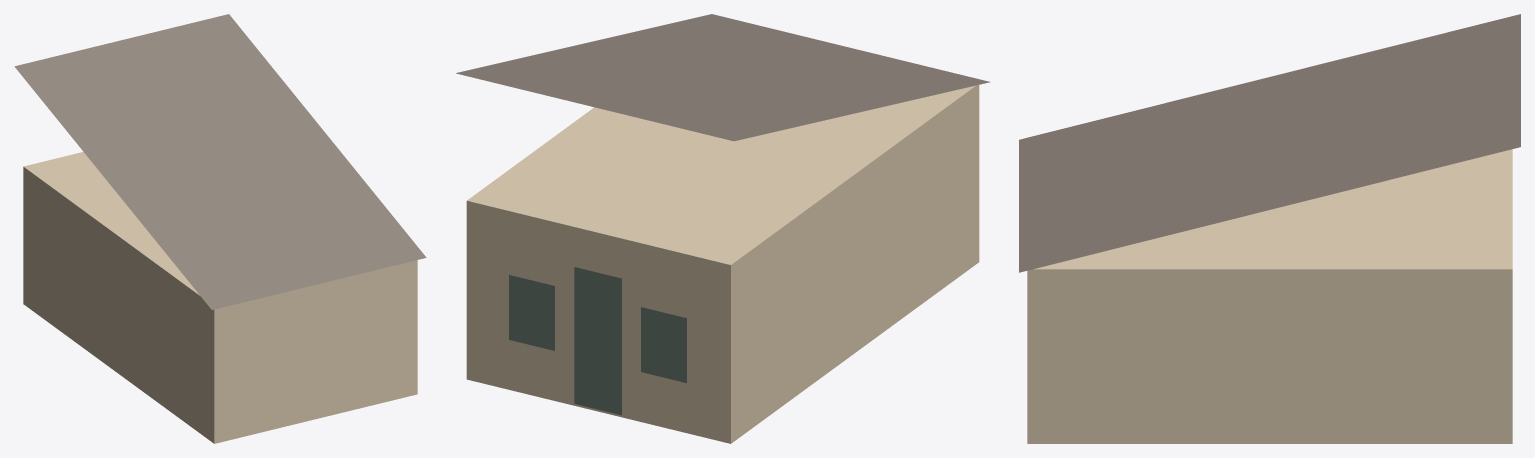
File: recon_1835_south_d2_005__recommended_1835.glb
The picture shows the model from 3 angles, left to right: view 1: azimuth 30°, elevation 25°; view 2: azimuth 150°, elevation 25°; view 3: azimuth 270°, elevation 25°; orthographic projection. The views are drawn at different scales.
Visible parts, largest first — view 1: recon_1835_south_d2_005__recommended_1835; view 2: recon_1835_south_d2_005__recommended_1835; view 3: recon_1835_south_d2_005__recommended_1835.
Boxes of the visible parts, x1,y1,x2,y2 form: recon_1835_south_d2_005__recommended_1835: [14, 14, 426, 443]; recon_1835_south_d2_005__recommended_1835: [456, 14, 990, 443]; recon_1835_south_d2_005__recommended_1835: [1019, 14, 1520, 443].
Bounding box in the file's own units: 4.49 × 4.73 × 7.16.
